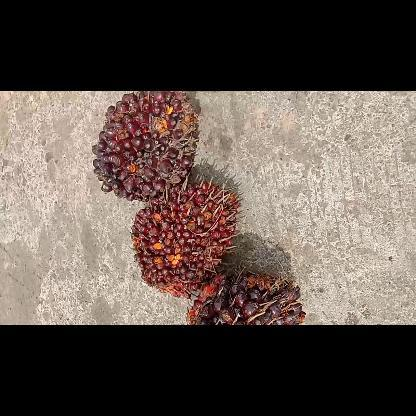Kurang masak: (131, 180, 241, 298), (92, 91, 198, 201)
TBS masak: (188, 274, 304, 324)
